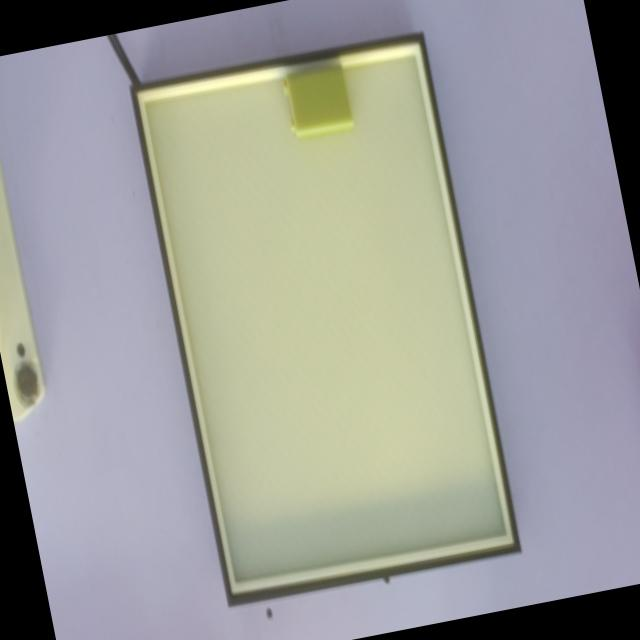bateria: (281, 62, 356, 138)
mesa: (130, 31, 522, 606)
